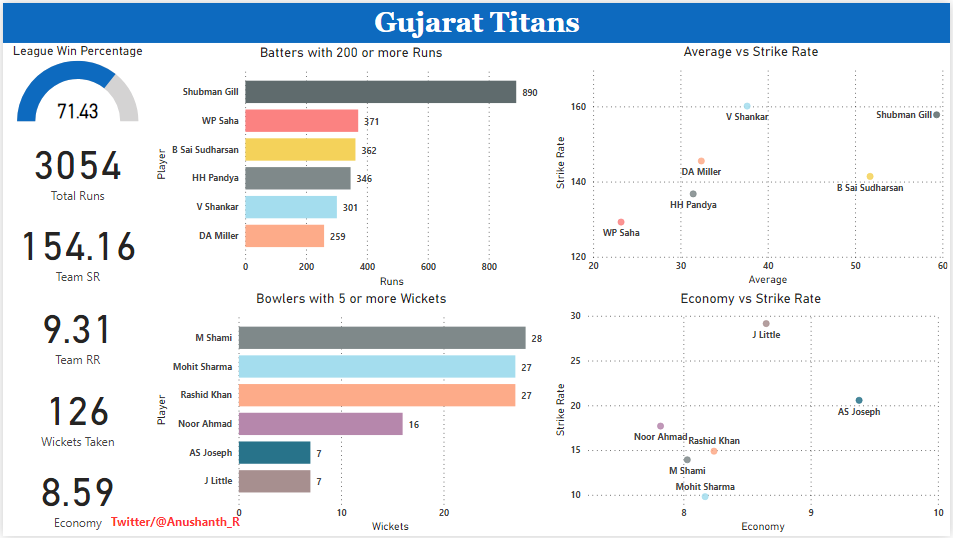

The page's visual inventory and layout, read from the dashboard file:
{"tool":"powerbi","page":{"name":"GT","canvas":[1280,720],"ordinal":3},"visuals":[{"type":"textbox","box":[0,0,1280.5,54.1],"z":0},{"type":"scatterChart","title":"Average vs Strike Rate","fields":{"Category":["all_batters.Player"],"Y":["Sum(all_batters.SR)"],"X":["Sum(all_batters.Average)"],"Series":["all_batters.Player"]},"box":[740.5,54.1,540.5,332.4],"z":1000},{"type":"card","fields":{"Values":["Sum(teamwise_batting.Runs)"]},"box":[0,165.6,201.6,110.9],"z":2000},{"type":"card","fields":{"Values":["Sum(teamwise_batting.SR)"]},"box":[0,276.2,201.6,111.3],"z":3000},{"type":"card","fields":{"Values":["Sum(teamwise_batting.RR)"]},"box":[0,387.4,201.6,110.9],"z":4000},{"type":"card","fields":{"Values":["Sum(teamwise_bowling.Wickets)"]},"box":[0,498.2,201.6,111],"z":5000},{"type":"card","fields":{"Values":["Sum(teamwise_bowling.Economy)"]},"box":[0,607.7,201.6,111],"z":6000},{"type":"barChart","title":"Bowlers with 5 or more Wickets","fields":{"Category":["all_bowlers.Player"],"Y":["Sum(all_bowlers.Wickets)"],"Series":["all_bowlers.Player"]},"box":[202,387.8,538.5,332.2],"z":7000},{"type":"scatterChart","title":"Economy vs Strike Rate","fields":{"Category":["all_bowlers.Player"],"X":["Sum(all_bowlers.Economy)"],"Y":["Sum(all_bowlers.SR)"],"Series":["all_bowlers.Player"]},"box":[740.5,387.8,540,332.2],"z":8000},{"type":"gauge","title":"League Win Percentage","fields":{"Y":["Sum(matches_won.Win Percantage)"]},"box":[0,54.1,202,111],"z":9000},{"type":"barChart","title":"Batters with 200 or more Runs","fields":{"Category":["all_batters.Player"],"Y":["Sum(all_batters.Runs)"],"Series":["all_batters.Player"]},"box":[201.6,55,538,332.5],"z":10000},{"type":"textbox","box":[140.5,685.1,194.6,32.4],"z":11000}]}

Visuals, with their boxes in screenshot pixels (x1, y1, x2, y2), scaled from the page's 1280x720 canvas onto the 953x538 screenshot:
textbox: box=[0, 0, 952, 40]
"Average vs Strike Rate" scatterChart: box=[551, 40, 952, 289]
card - Sum(teamwise_batting.Runs): box=[0, 124, 150, 207]
card - Sum(teamwise_batting.SR): box=[0, 206, 150, 290]
card - Sum(teamwise_batting.RR): box=[0, 289, 150, 372]
card - Sum(teamwise_bowling.Wickets): box=[0, 372, 150, 455]
card - Sum(teamwise_bowling.Economy): box=[0, 454, 150, 537]
"Bowlers with 5 or more Wickets" barChart: box=[150, 290, 551, 537]
"Economy vs Strike Rate" scatterChart: box=[551, 290, 952, 537]
"League Win Percentage" gauge: box=[0, 40, 150, 123]
"Batters with 200 or more Runs" barChart: box=[150, 41, 551, 290]
textbox: box=[105, 512, 249, 536]
